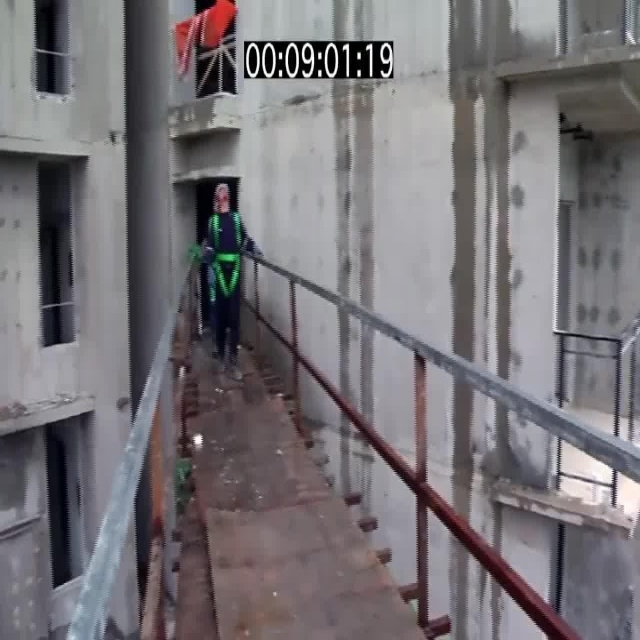Arnes_seguridad: (210, 216, 240, 297)
